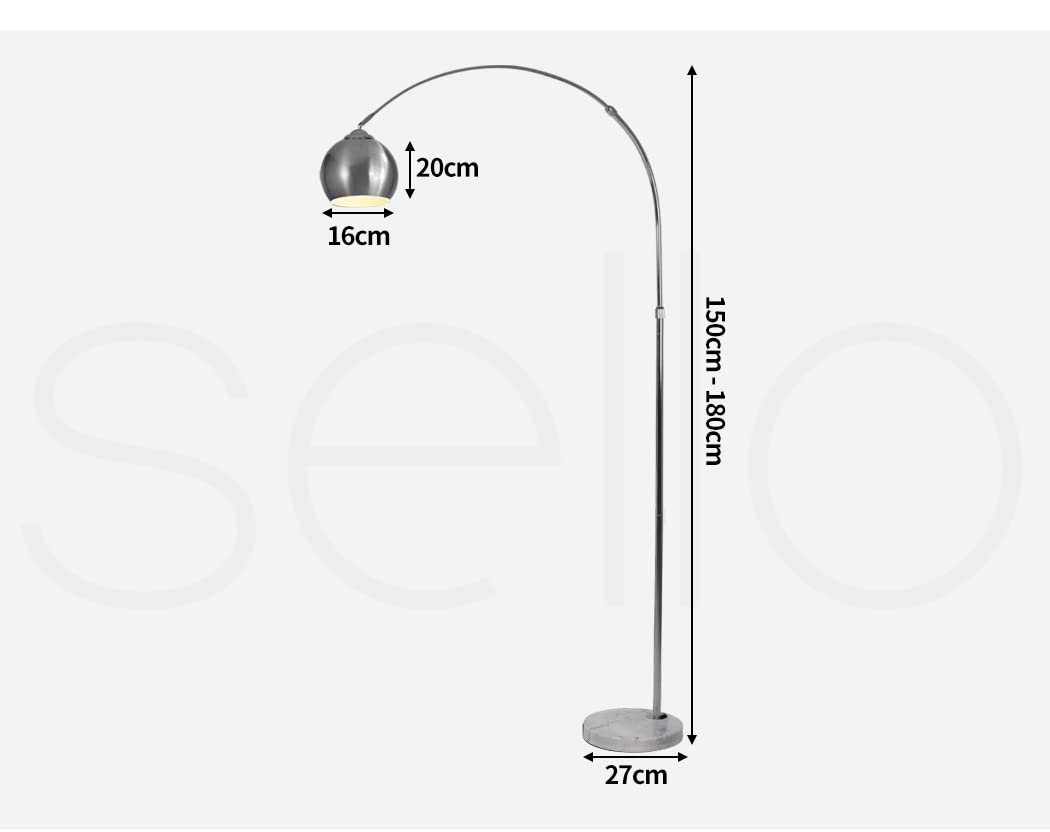150cm: (706, 297, 725, 371)
